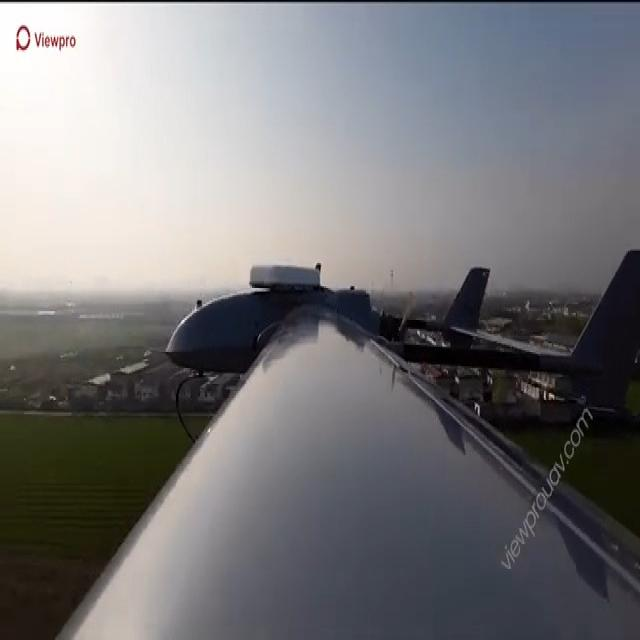drones: (155, 251, 640, 417)
